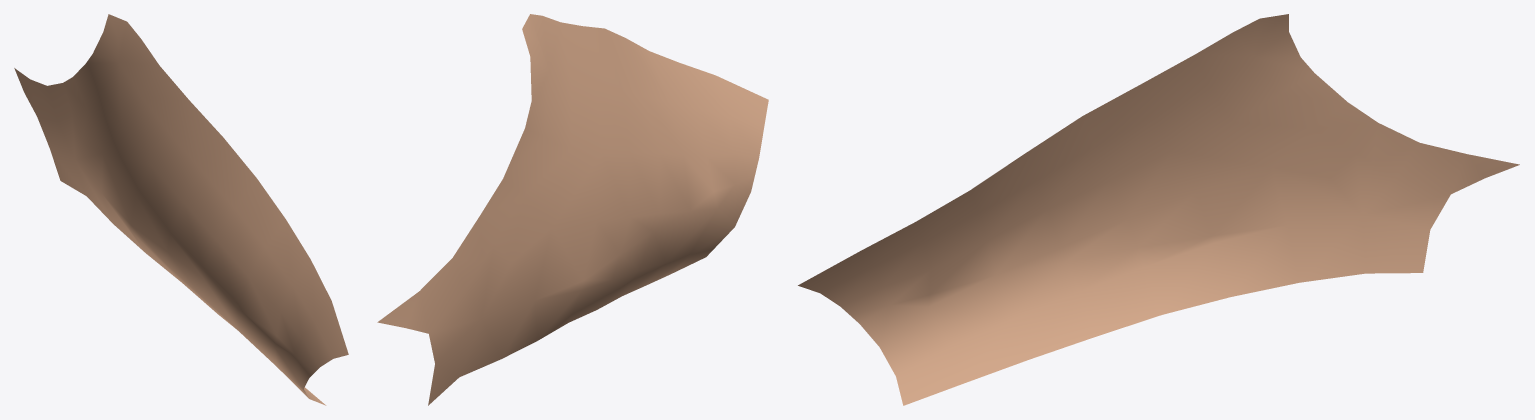
Rendered from medial-border-of-foot-l.glb.
3 renders of one model, left to right at view 1: azimuth 30°, elevation 25°; view 2: azimuth 150°, elevation 25°; view 3: azimuth 270°, elevation 25°, orthographic. The views are drawn at different scales.
Parts seen in each view (by area): view 1: Medial border of foot.l; view 2: Medial border of foot.l; view 3: Medial border of foot.l.
Part boxes in pixels (x1=…): Medial border of foot.l: x1=14, y1=14, x2=348, y2=405; Medial border of foot.l: x1=377, y1=14, x2=768, y2=405; Medial border of foot.l: x1=798, y1=14, x2=1519, y2=405.
Bounding box in the file's own units: 0.0188 × 0.0714 × 0.1315.
